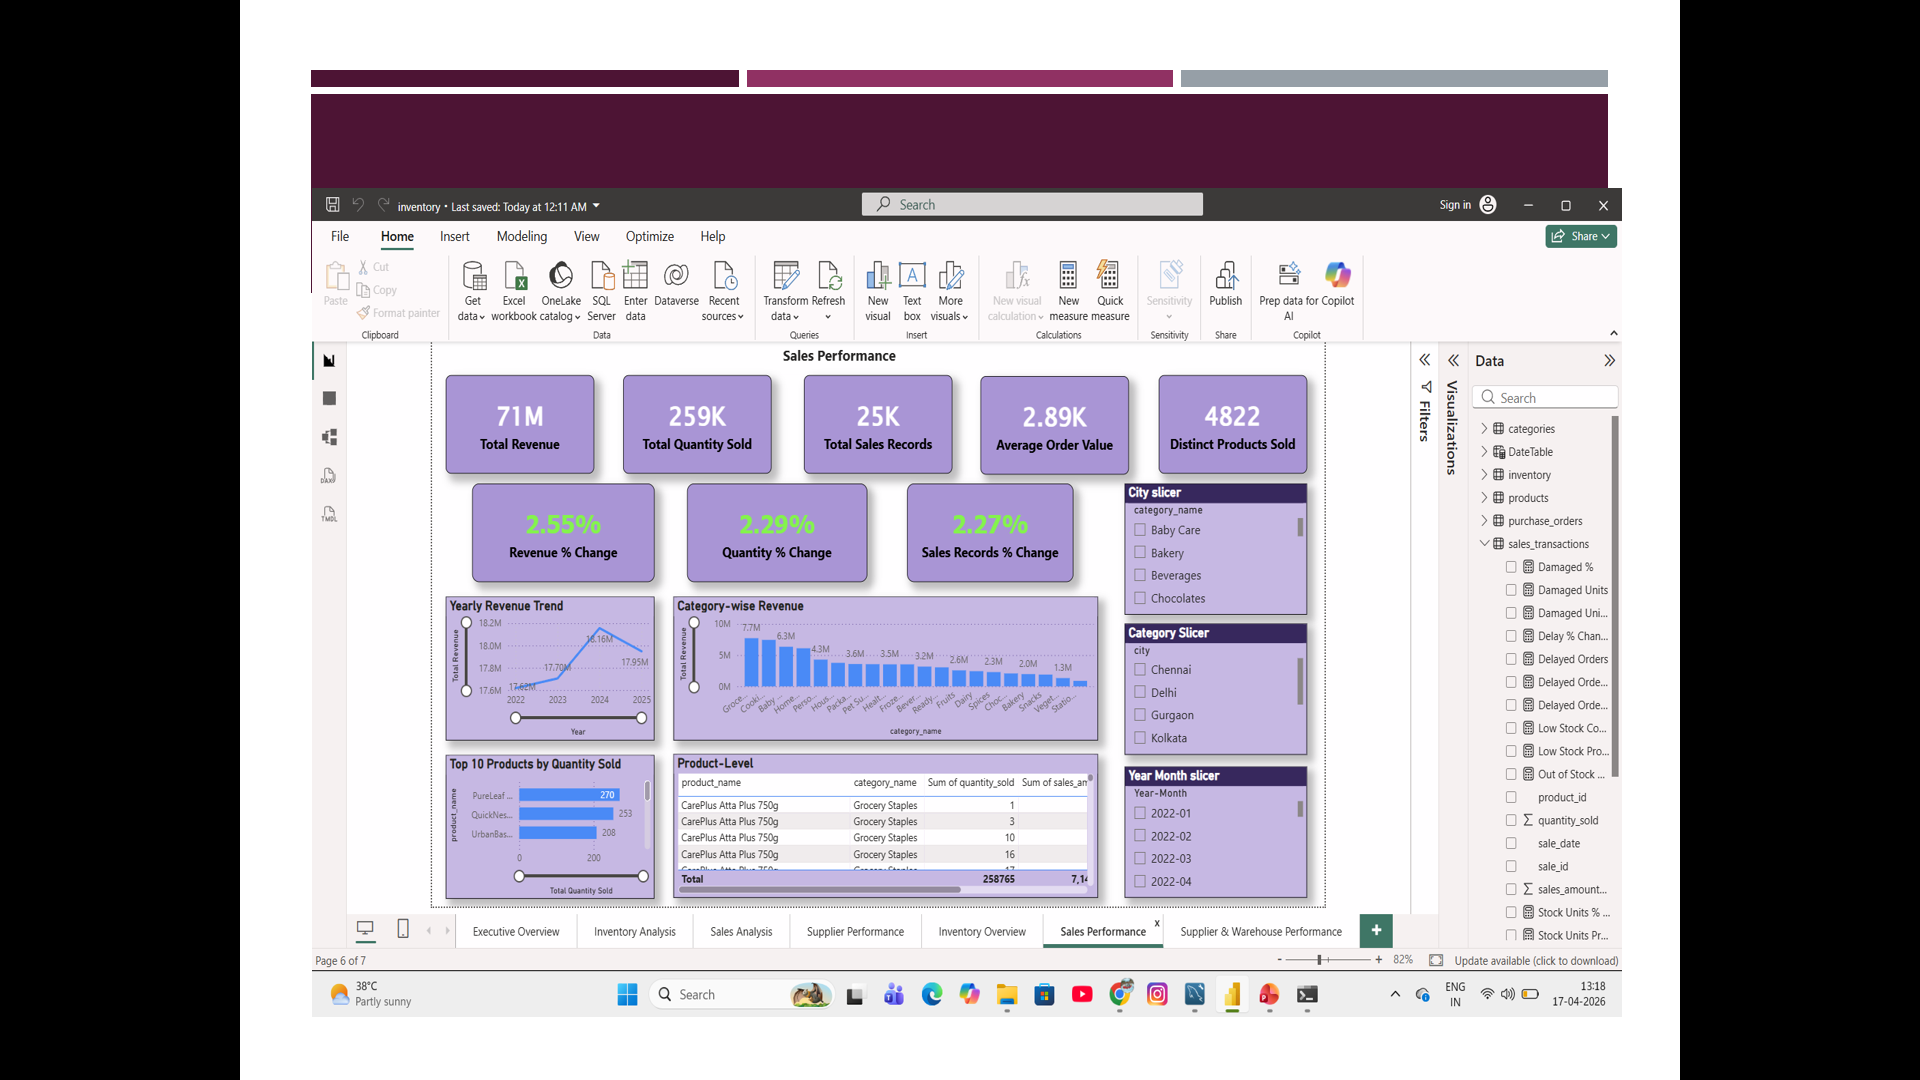

The page's visual inventory and layout, read from the dashboard file:
{"tool":"powerbi","page":{"name":"Sales Performance","canvas":[1280,720],"ordinal":1},"visuals":[{"type":"textbox","box":[486.7,0,194.4,42.8],"z":0},{"type":"card","fields":{"Values":["DateTable.Total Revenue"]},"box":[19.6,42.8,212.8,126],"z":1000},{"type":"card","fields":{"Values":["sales_transactions.Total Quantity Sold"]},"box":[273.9,42.8,212.8,126],"z":2000},{"type":"card","fields":{"Values":["DateTable.Total Sales Records"]},"box":[533.2,42.8,212.8,126],"z":3000},{"type":"card","fields":{"Values":["DateTable.Average Order Value"]},"box":[786.3,44,212.8,126],"z":4000},{"type":"card","fields":{"Values":["DateTable.Distinct Products Sold"]},"box":[1041.9,42.8,212.8,126],"z":5000},{"type":"card","fields":{"Values":["DateTable.Revenue % Change"]},"box":[57.5,181,261.7,126],"z":6000},{"type":"card","fields":{"Values":["DateTable.Quantity % Change"]},"box":[365.6,181,258,126],"z":7000},{"type":"card","fields":{"Values":["DateTable.Sales Records % Change"]},"box":[681.1,181,238.5,126],"z":8000},{"type":"lineChart","title":"Yearly Revenue Trend","fields":{"Category":["DateTable.Date.Variation.Date Hierarchy.Year"],"Y":["DateTable.Total Revenue"]},"box":[19.6,325.3,299.6,183.4],"z":9000},{"type":"clusteredColumnChart","title":"Category-wise Revenue","fields":{"Y":["DateTable.Total Revenue"],"Category":["categories.category_name"]},"box":[346.1,325.3,609,183.4],"z":10000},{"type":"barChart","title":"Top 10 Products by Quantity Sold","fields":{"Category":["products.product_name"],"Y":["sales_transactions.Total Quantity Sold"]},"box":[19.6,527,299.6,183.4],"z":11000},{"type":"tableEx","title":"Product-Level","fields":{"Values":["products.product_name","categories.category_name","Sum(sales_transactions.quantity_sold)","Sum(sales_transactions.sales_amount_clean)","warehouses.warehouse_name"]},"box":[346.1,525.8,609,183.4],"z":12000},{"type":"slicer","title":"City slicer","fields":{"Values":["categories.category_name"]},"box":[992.9,181,261.7,167.5],"z":13000},{"type":"slicer","title":"Category Slicer","fields":{"Values":["warehouses.city"]},"box":[992.9,359.5,261.7,167.5],"z":14000},{"type":"slicer","title":"Year Month slicer","fields":{"Values":["DateTable.Year-Month"]},"box":[992.9,541.7,261.7,167.5],"z":15000}]}

Visuals, with their boxes on the page's 1280x720 design canvas (x1, y1, x2, y2). These are canvas units, not pixel positions in the 1920x1080 screenshot, which may show the page scaled, cropped or inside an application window:
textbox: [487, 0, 681, 43]
card - DateTable.Total Revenue: [20, 43, 232, 169]
card - sales_transactions.Total Quantity Sold: [274, 43, 487, 169]
card - DateTable.Total Sales Records: [533, 43, 746, 169]
card - DateTable.Average Order Value: [786, 44, 999, 170]
card - DateTable.Distinct Products Sold: [1042, 43, 1255, 169]
card - DateTable.Revenue % Change: [58, 181, 319, 307]
card - DateTable.Quantity % Change: [366, 181, 624, 307]
card - DateTable.Sales Records % Change: [681, 181, 920, 307]
"Yearly Revenue Trend" lineChart: [20, 325, 319, 509]
"Category-wise Revenue" clusteredColumnChart: [346, 325, 955, 509]
"Top 10 Products by Quantity Sold" barChart: [20, 527, 319, 710]
"Product-Level" tableEx: [346, 526, 955, 709]
"City slicer" slicer: [993, 181, 1255, 348]
"Category Slicer" slicer: [993, 360, 1255, 527]
"Year Month slicer" slicer: [993, 542, 1255, 709]
